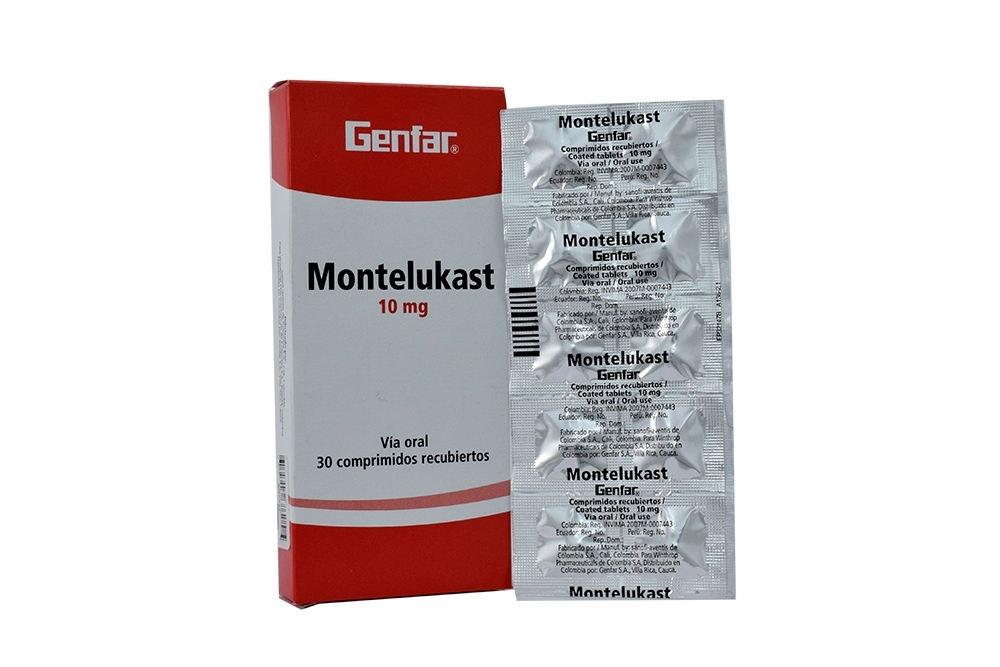Genfar: (291, 84, 512, 597)
